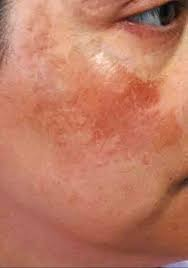Melasma: (20, 34, 188, 173)
